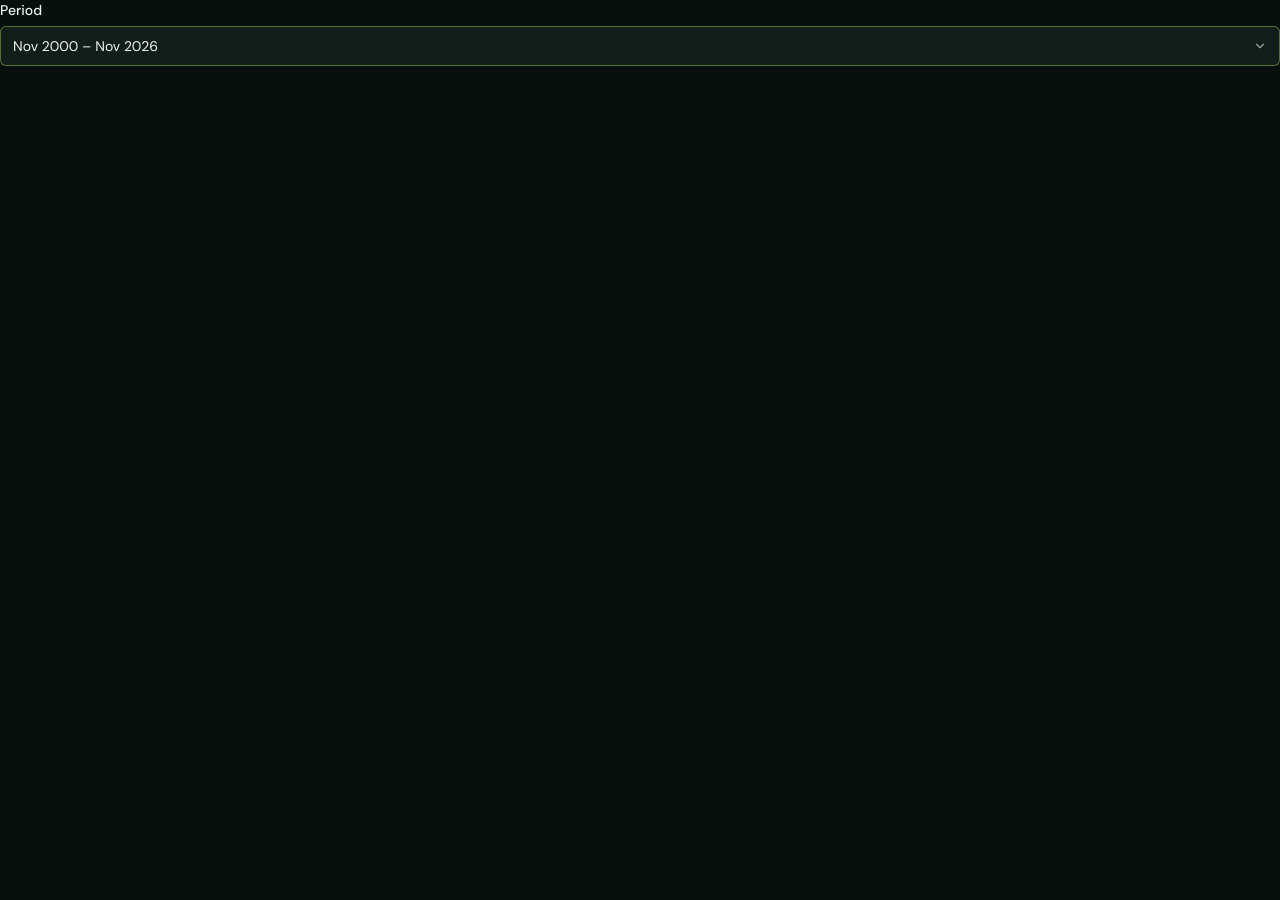
Test: PeriodRangePicker › closes popover with Escape key
Click the button with aria-label "Select period range". click: (46, 46)
box: [0, 26, 1279, 66]
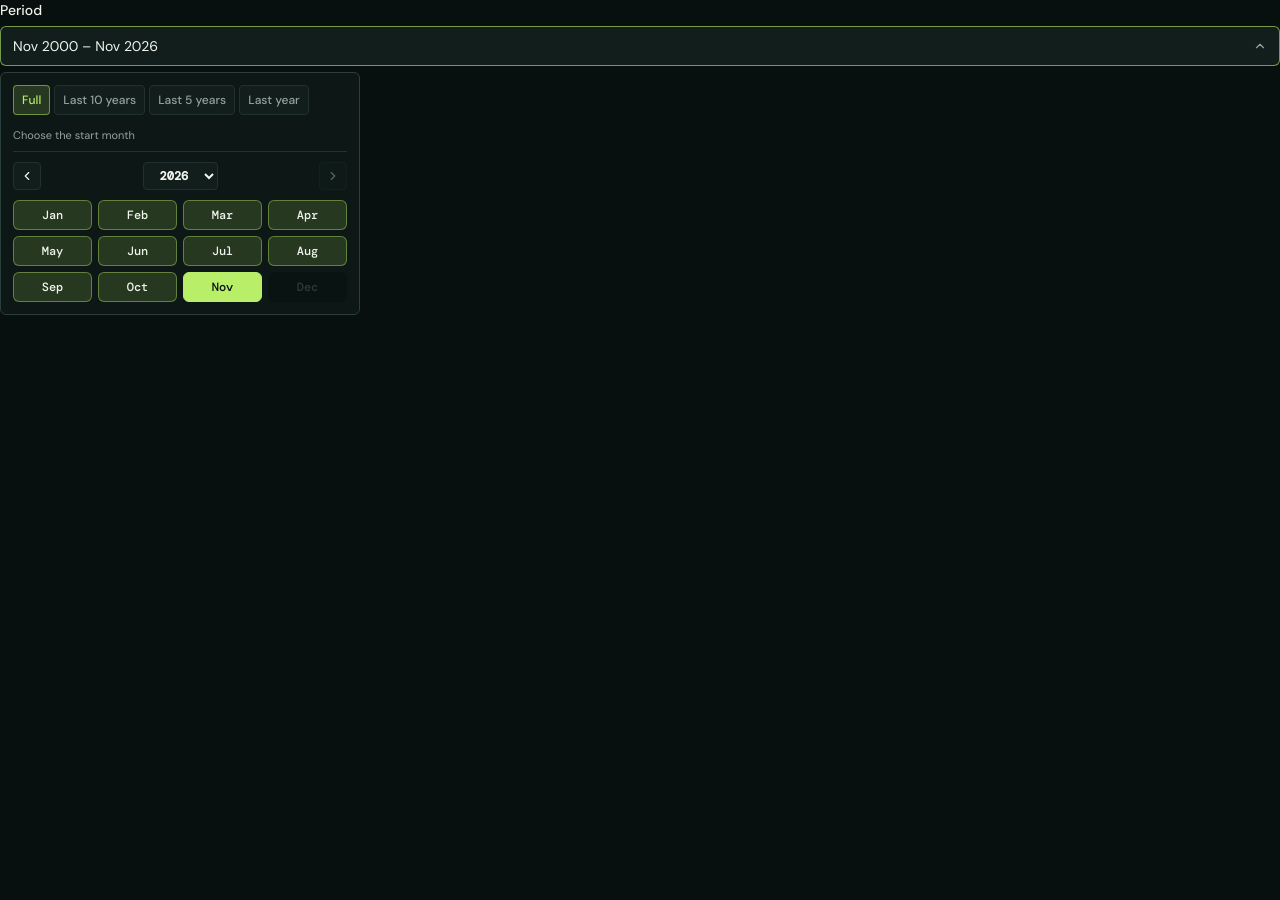
Check: the dialog is shown, box [0, 72, 360, 315]
Press Escape
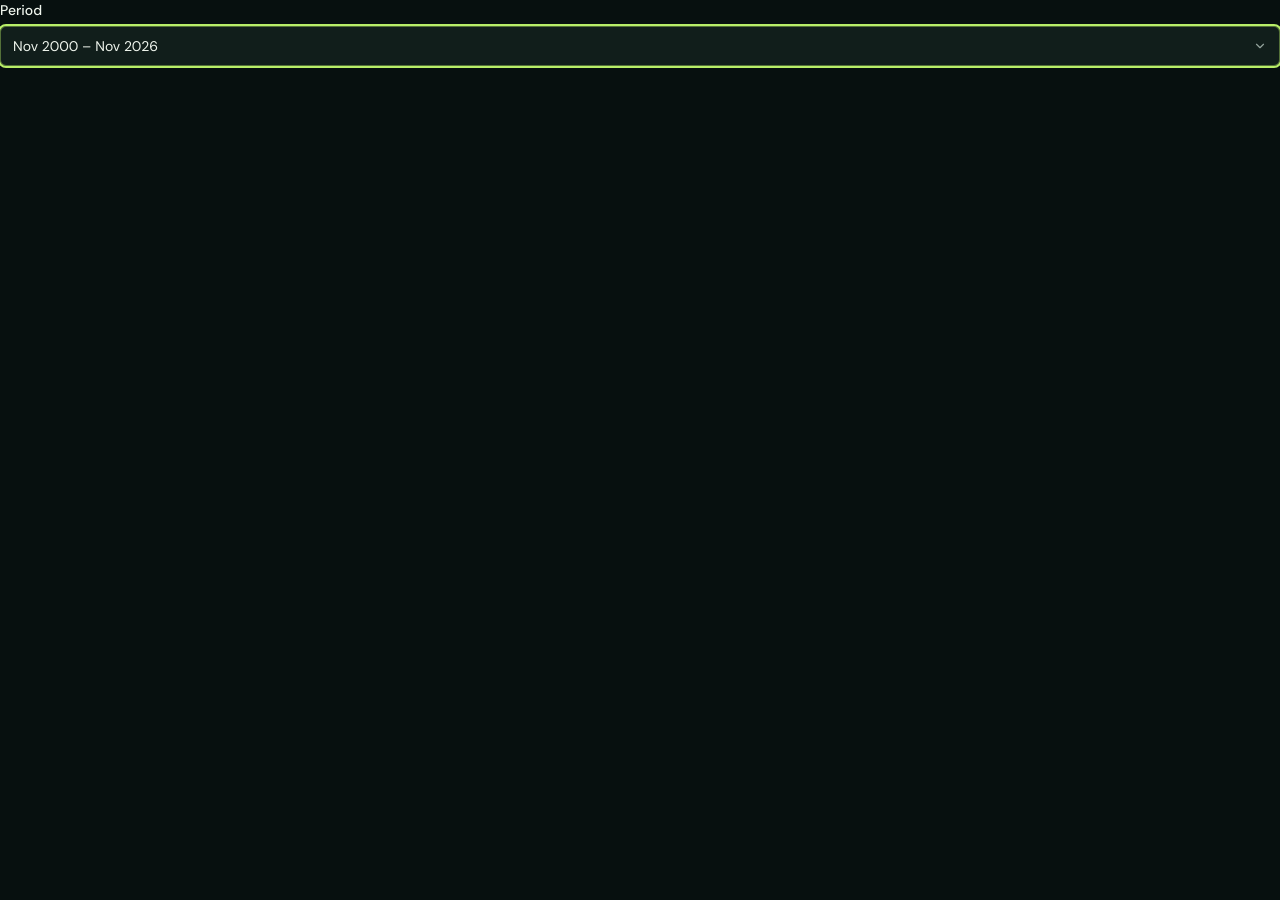
Check: the dialog is gone
